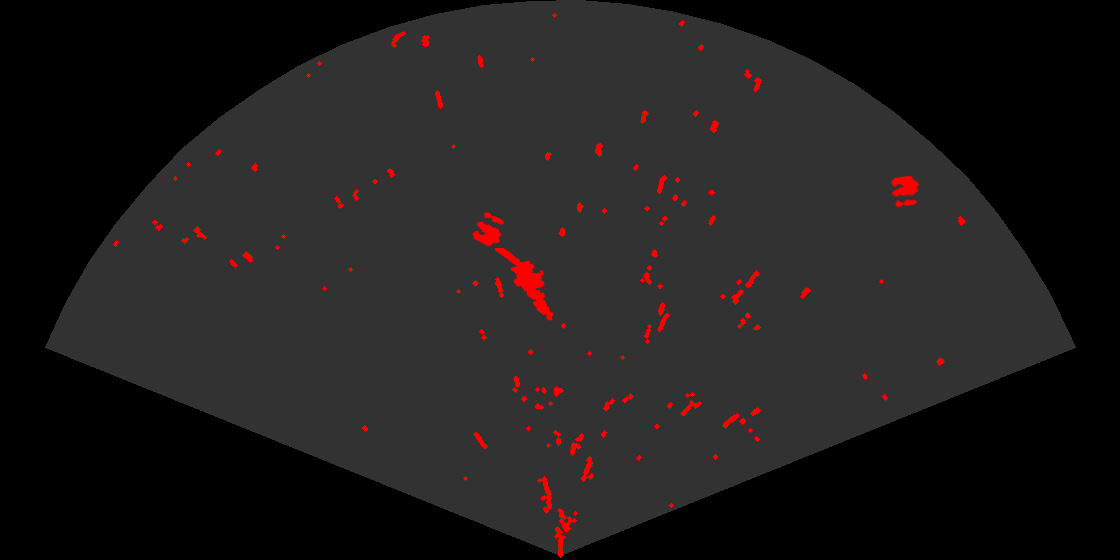ball: (471, 211, 505, 248), (889, 174, 921, 209)
frogman: (495, 248, 555, 322)
